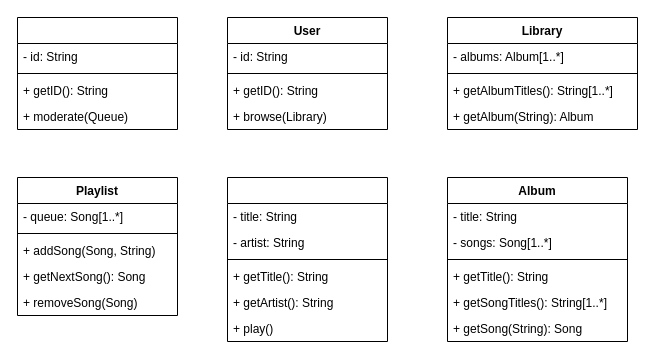
Image size: 655x362. Some labels were removed from this diagram. The box of each missing label's shape, as (x1, y1, x2, y2) in pixels:
Admin: (16, 16, 178, 130)
Song: (226, 176, 388, 342)
